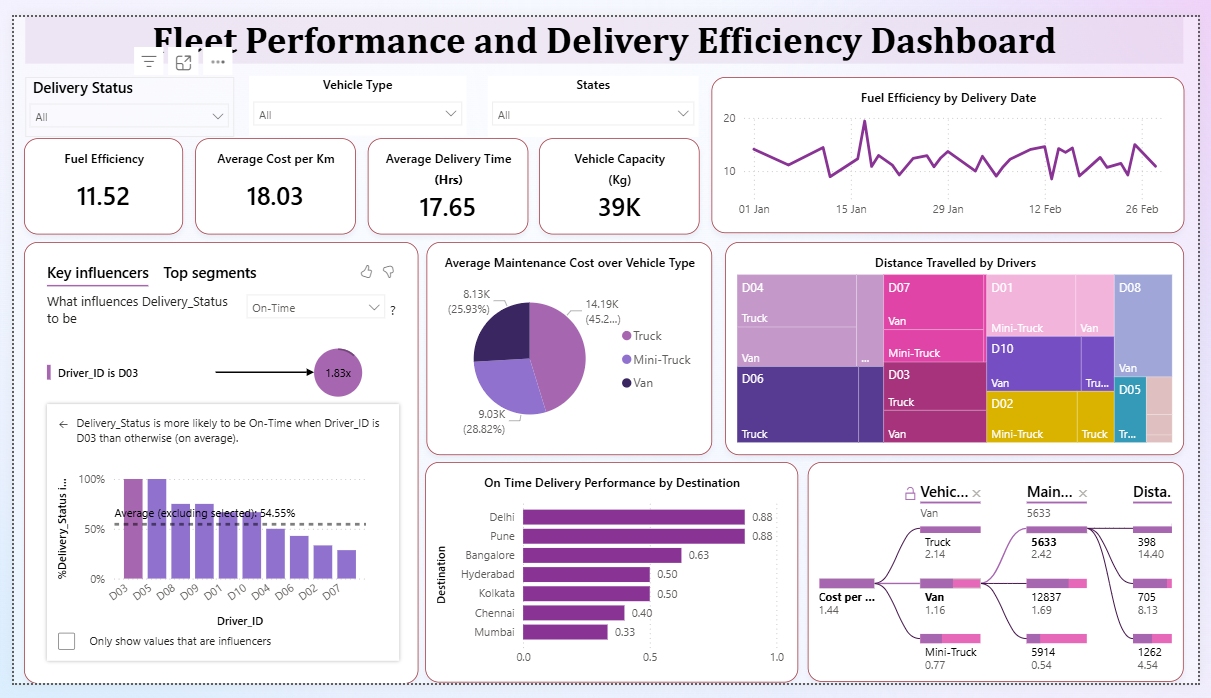

This screenshot's page, from the dashboard's own definition file:
{"tool":"powerbi","page":{"name":"Page 1","canvas":[1280,720],"ordinal":0},"visuals":[{"type":"clusteredBarChart","title":"On Time Delivery Performance by  Destination","fields":{"Category":["Trip_Data.Destination"],"Y":["Trip_Data.On Time Delivery %"]},"box":[445.1,481.7,402.8,238],"z":0},{"type":"lineChart","title":"Fuel Efficiency by Delivery Date","fields":{"Category":["Trip_Data.Delivery_Date"],"Y":["Trip_Data.Fuel_Efficiency"]},"box":[753.5,64.8,511.3,169],"z":1000},{"type":"pieChart","title":"Average Maintenance Cost over Vehicle Type","fields":{"Category":["Vehicle_Master.Vehicle_Type"],"Y":["Avg(Vehicle_Master.Maintenance_Cost)"]},"box":[445.3,242.6,308.5,230.1],"z":3000},{"type":"keyDriversVisual","fields":{"Target":["Trip_Data.Delivery_Status"],"ExplainBy":["Sum(Trip_Data.Distance_km)","Vehicle_Master.Vehicle_Type","Trip_Data.Driver_ID"]},"box":[11.2,242.6,426.7,477.7],"z":4000},{"type":"card","title":"Fuel Efficiency","fields":{"Values":["Trip_Data.Fuel_Efficiency"]},"box":[11.3,131,171.8,104.2],"z":5000},{"type":"textbox","title":"Fleet Performance and Delivery Efficiency Dashboard","box":[12.7,0,1252.1,50.7],"z":6000},{"type":"card","title":"Average Cost per Km","fields":{"Values":["Trip_Data.Average Cost per km"]},"box":[195.8,131,173.2,104.2],"z":7000},{"type":"card","title":"Average Delivery Time","fields":{"Values":["Trip_Data.Avg Estimated Delivery Time"]},"box":[383.1,131,173.2,104.2],"z":8000},{"type":"card","title":"Vehicle Capacity","fields":{"Values":["Trip_Data.Vehicle Capacity"]},"box":[567.6,131,173.2,104.2],"z":9000},{"type":"slicer","fields":{"Values":["Trip_Data.Delivery_Status"]},"box":[12.7,64.8,225.4,64.8],"z":10000},{"type":"slicer","title":"Vehicle Type","fields":{"Values":["Vehicle_Master.Vehicle_Type"]},"box":[253.5,63.4,235.2,64.8],"z":11000},{"type":"slicer","title":"States","fields":{"Values":["Trip_Data.Destination"]},"box":[512.7,63.4,228.2,66.2],"z":12000},{"type":"treemap","title":"Distance Travelled by Drivers","fields":{"Group":["Trip_Data.Driver_ID"],"Values":["Trip_Data.Total Distance"],"Details":["Vehicle_Master.Vehicle_Type"]},"box":[768.8,242.6,496.3,230.1],"z":13000},{"type":"decompositionTreeVisual","fields":{"ExplainBy":["Vehicle_Master.Vehicle_Type","Vehicle_Master.Maintenance_Cost","Trip_Data.Distance_km"],"Analyze":["Trip_Data.Cost per km"]},"box":[858.1,481.1,406.8,237.8],"z":13001}]}

Visuals, with their boxes on the page's 1280x720 design canvas (x1, y1, x2, y2). These are canvas units, not pixel positions in the 1211x698 screenshot, which may show the page scaled, cropped or inside an application window:
"On Time Delivery Performance by  Destination" clusteredBarChart: 445:482:848:720
"Fuel Efficiency by Delivery Date" lineChart: 754:65:1265:234
"Average Maintenance Cost over Vehicle Type" pieChart: 445:243:754:473
keyDriversVisual - Trip_Data.Delivery_Status x Sum(Trip_Data.Distance_km): 11:243:438:720
"Fuel Efficiency" card: 11:131:183:235
"Fleet Performance and Delivery Efficiency Dashboard" textbox: 13:0:1265:51
"Average Cost per Km" card: 196:131:369:235
"Average Delivery Time" card: 383:131:556:235
"Vehicle Capacity" card: 568:131:741:235
slicer - Trip_Data.Delivery_Status: 13:65:238:130
"Vehicle Type" slicer: 254:63:489:128
"States" slicer: 513:63:741:130
"Distance Travelled by Drivers" treemap: 769:243:1265:473
decompositionTreeVisual - Vehicle_Master.Vehicle_Type x Vehicle_Master.Maintenance_Cost: 858:481:1265:719
